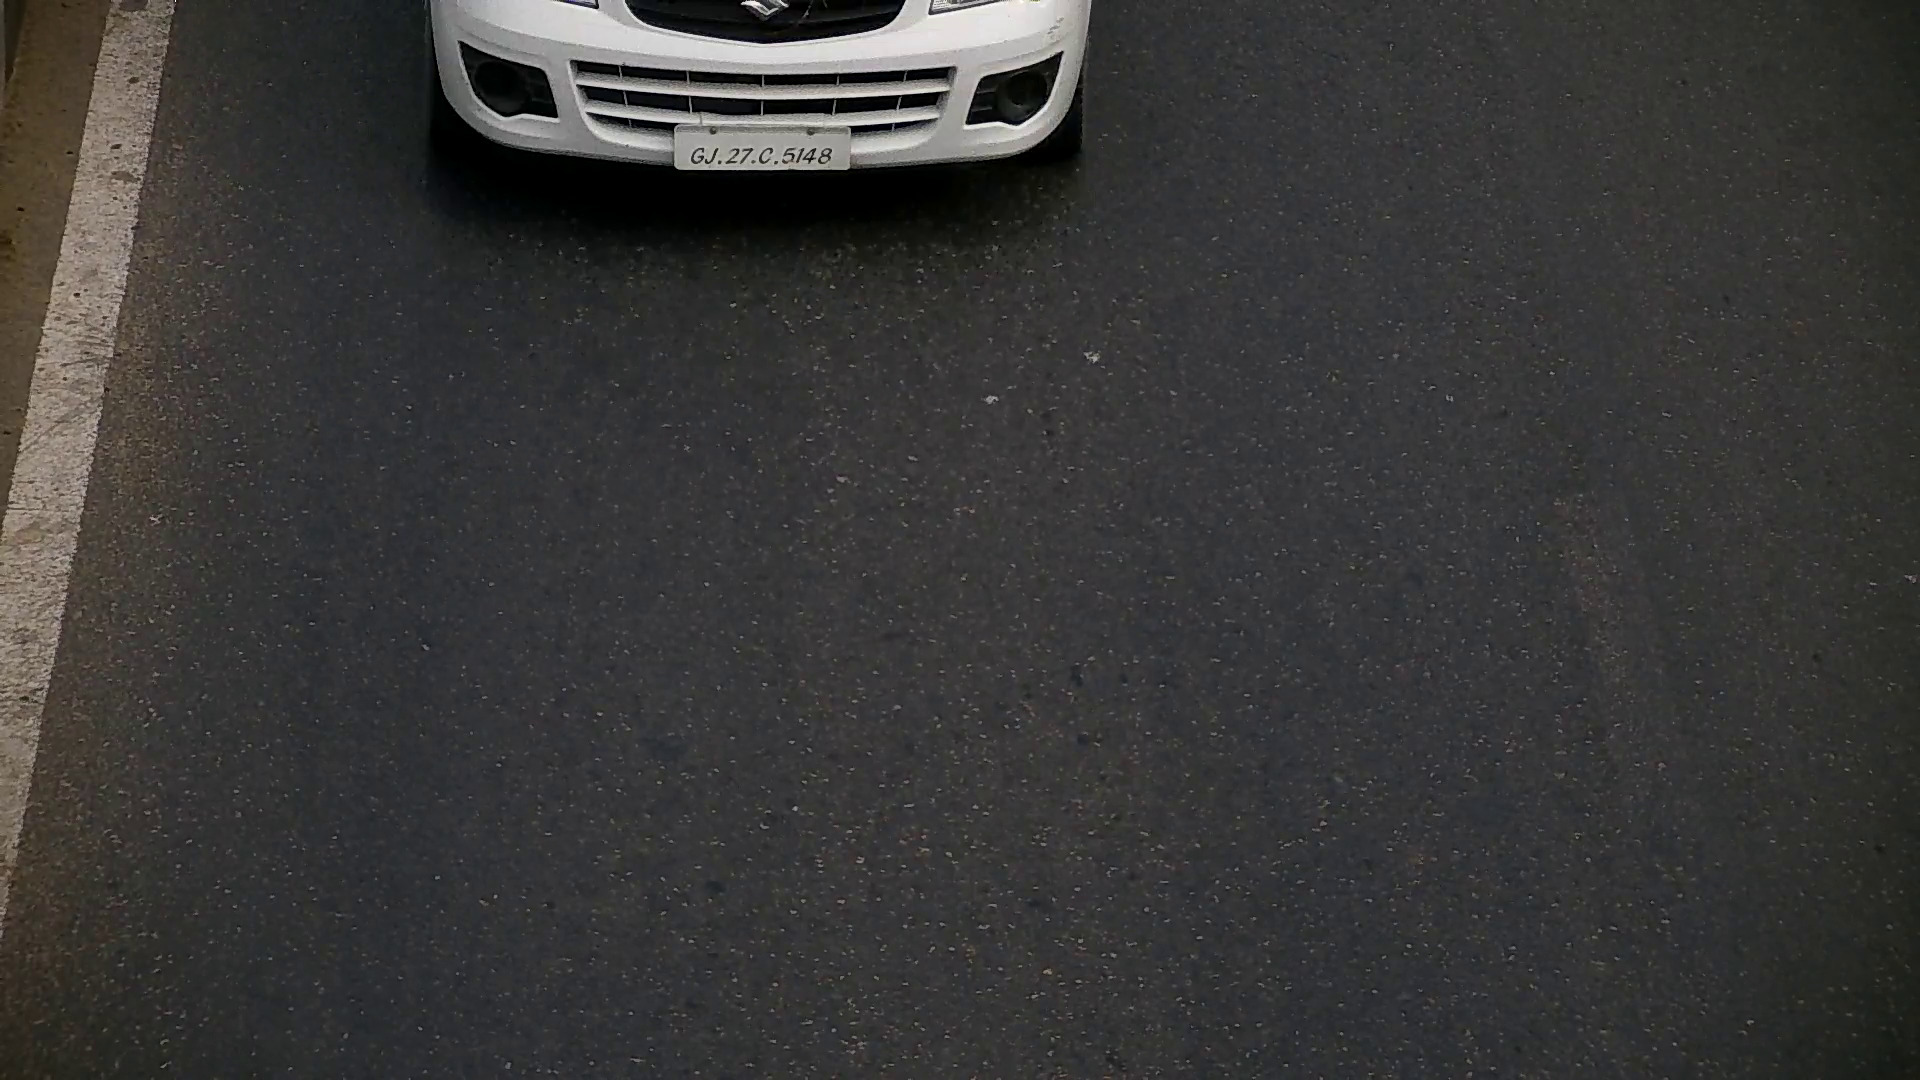numberplate: (668, 126, 854, 177)
